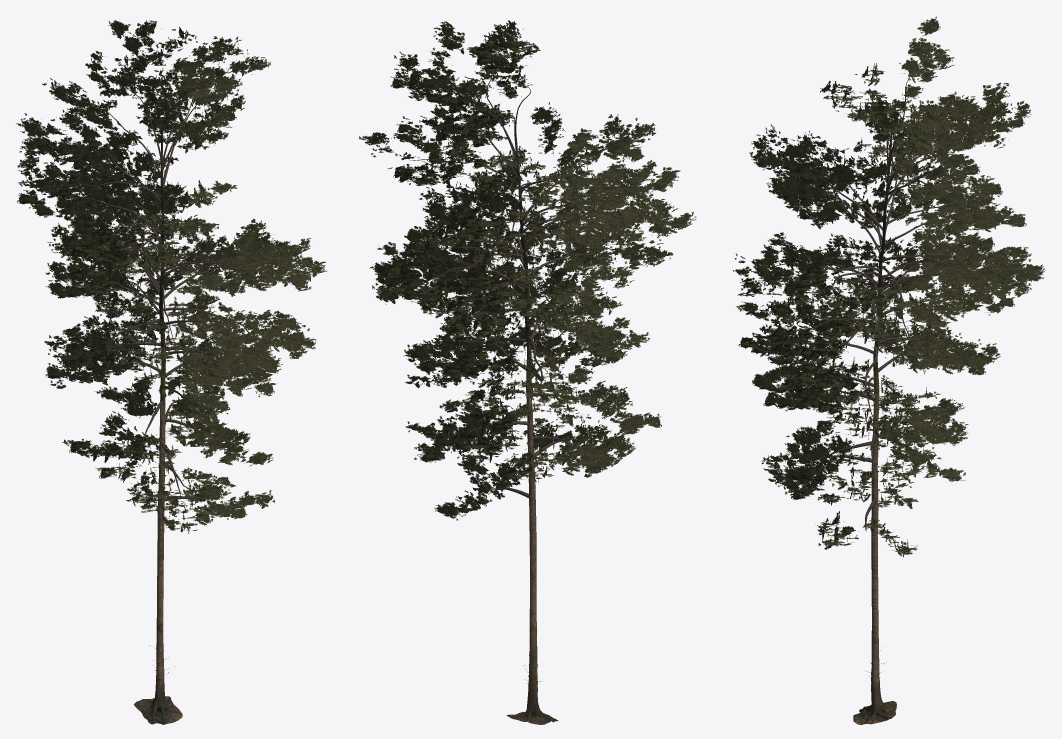
The model's file is scots_pine_a.glb.
3 views of the same model, side by side, from view 1: azimuth 30°, elevation 25°; view 2: azimuth 150°, elevation 25°; view 3: azimuth 270°, elevation 25° (orthographic). The views are drawn at different scales.
Parts seen in each view (by area): view 1: scots_pine_a_LOD0; view 2: scots_pine_a_LOD0; view 3: scots_pine_a_LOD0.
Part boxes in pixels (x1=…): scots_pine_a_LOD0: x1=16, y1=20, x2=327, y2=724; scots_pine_a_LOD0: x1=359, y1=20, x2=696, y2=724; scots_pine_a_LOD0: x1=733, y1=16, x2=1044, y2=724.
Size of what is drawn, in the model's own units: 8.01 by 20.47 by 8.55.
2 materials, 2 textured.
